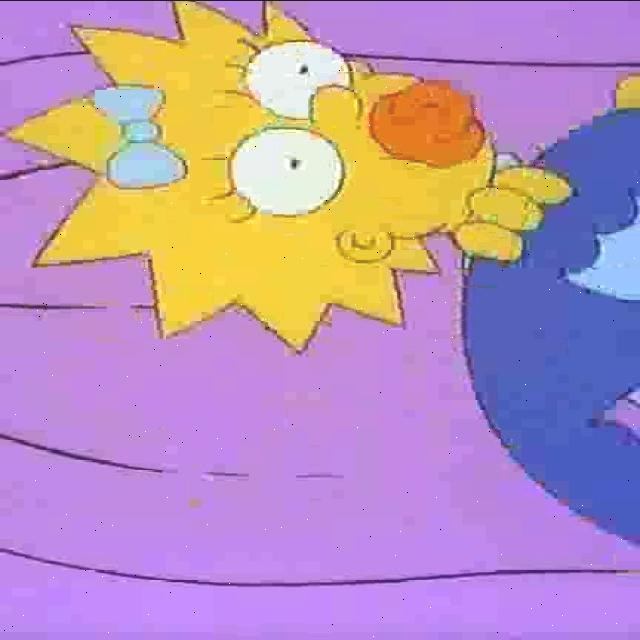Maggie Simpson: (0, 0, 499, 355)
